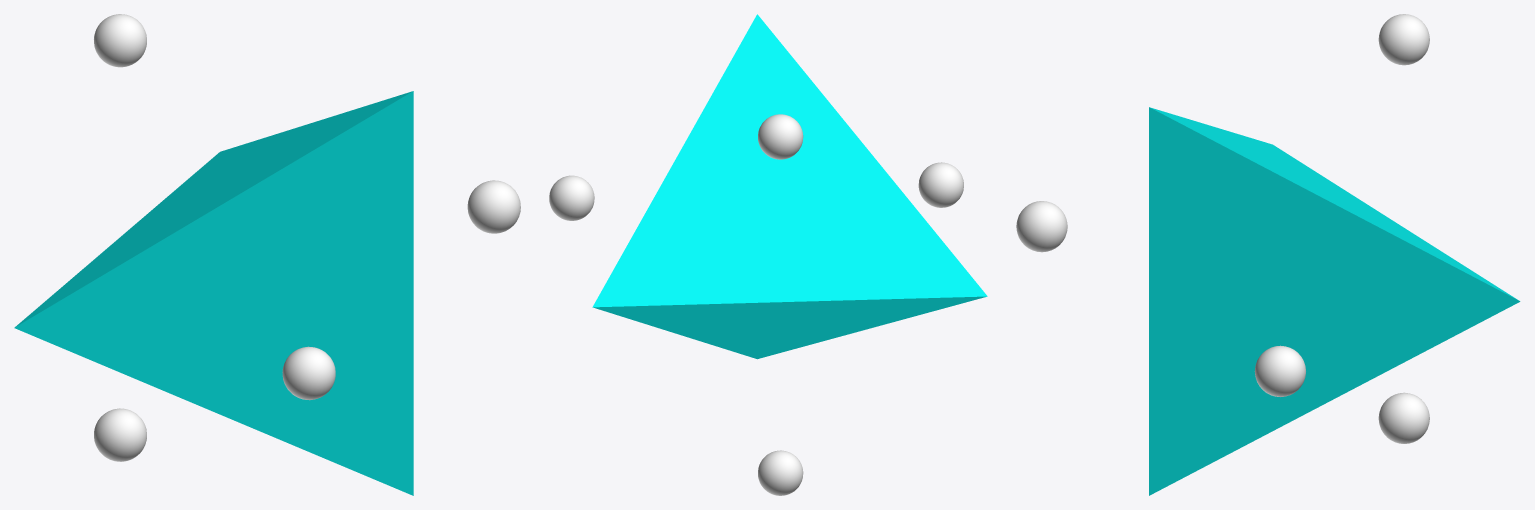
The model's file is Artifact.fbx.
The picture shows the model from 3 angles, left to right: view 1: azimuth 30°, elevation 25°; view 2: azimuth 150°, elevation 25°; view 3: azimuth 270°, elevation 25°; orthographic projection. The views are drawn at different scales.
Visible parts, largest first — view 1: Pyramid, MoonBottom, Moon3, Moon2, Moon1; view 2: Pyramid, MoonBottom, Moon2, Moon1, Moon3; view 3: Pyramid, Moon3, Moon1, Moon2, MoonBottom.
Boxes of the visible parts, box(x1,y1,x2,y2) form: Pyramid: box(14, 91, 413, 495); MoonBottom: box(467, 180, 520, 233); Moon3: box(282, 346, 335, 400); Moon2: box(94, 408, 146, 461); Moon1: box(94, 14, 146, 67); Pyramid: box(592, 14, 987, 359); MoonBottom: box(549, 175, 594, 220); Moon2: box(758, 450, 803, 495); Moon1: box(758, 114, 803, 159); Moon3: box(918, 162, 963, 207); Pyramid: box(1149, 107, 1520, 495); Moon3: box(1016, 201, 1067, 252); Moon1: box(1378, 14, 1429, 65); Moon2: box(1378, 392, 1429, 443); MoonBottom: box(1254, 345, 1305, 396).
Bounding box in the file's own units: 1.14 × 0.9472 × 1.02.
2 materials, 1 textured.
